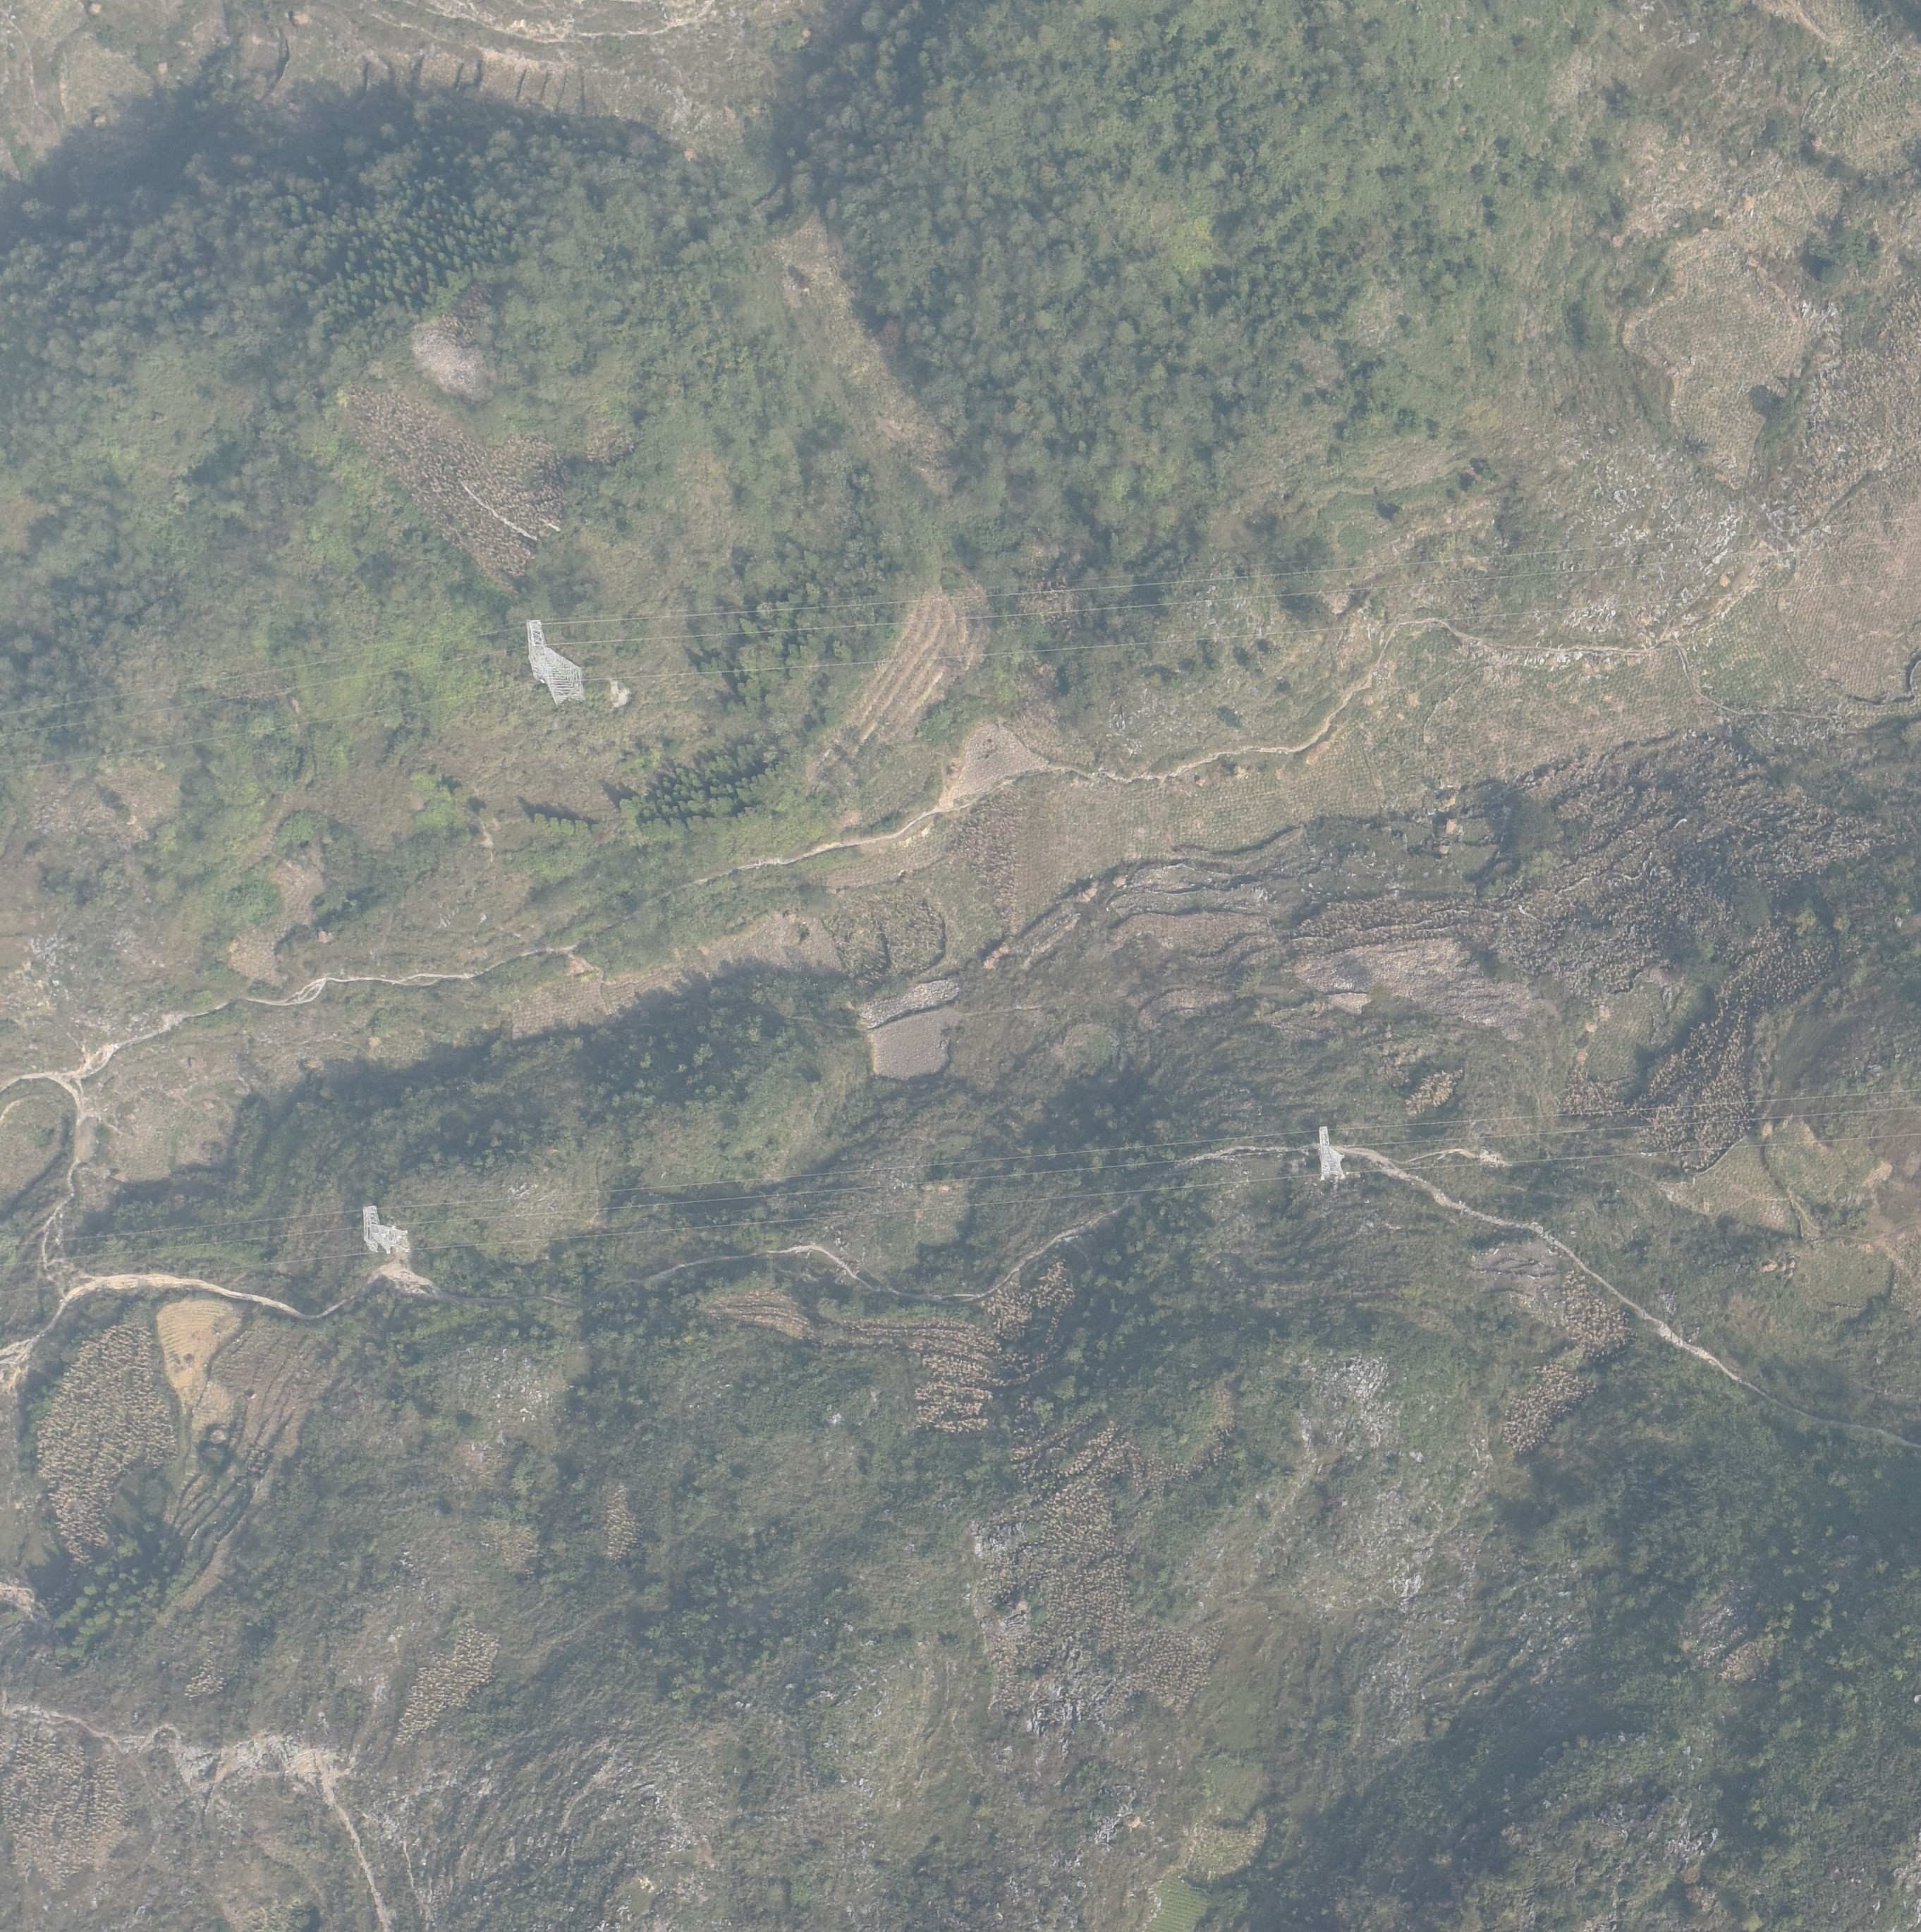cable-tower: (526, 619, 586, 702), (359, 1205, 412, 1256), (1319, 1126, 1348, 1181)
